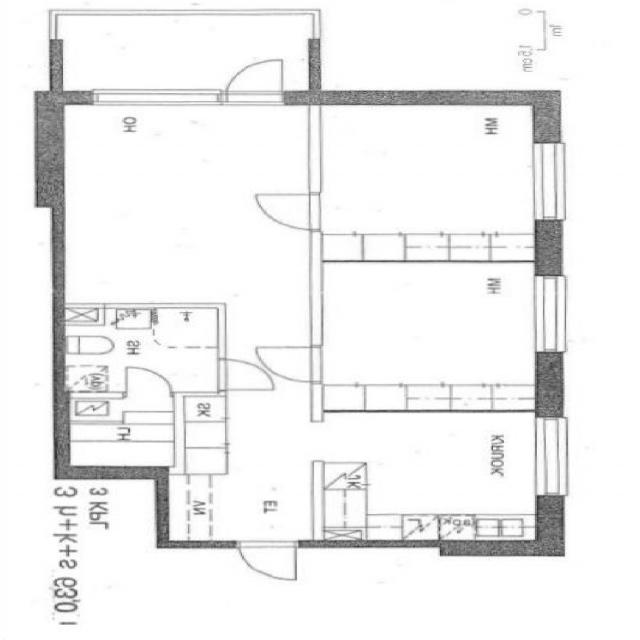door: (227, 56, 284, 104), (239, 541, 295, 583), (256, 348, 322, 382), (256, 195, 322, 229), (219, 359, 275, 389), (127, 364, 171, 398)
